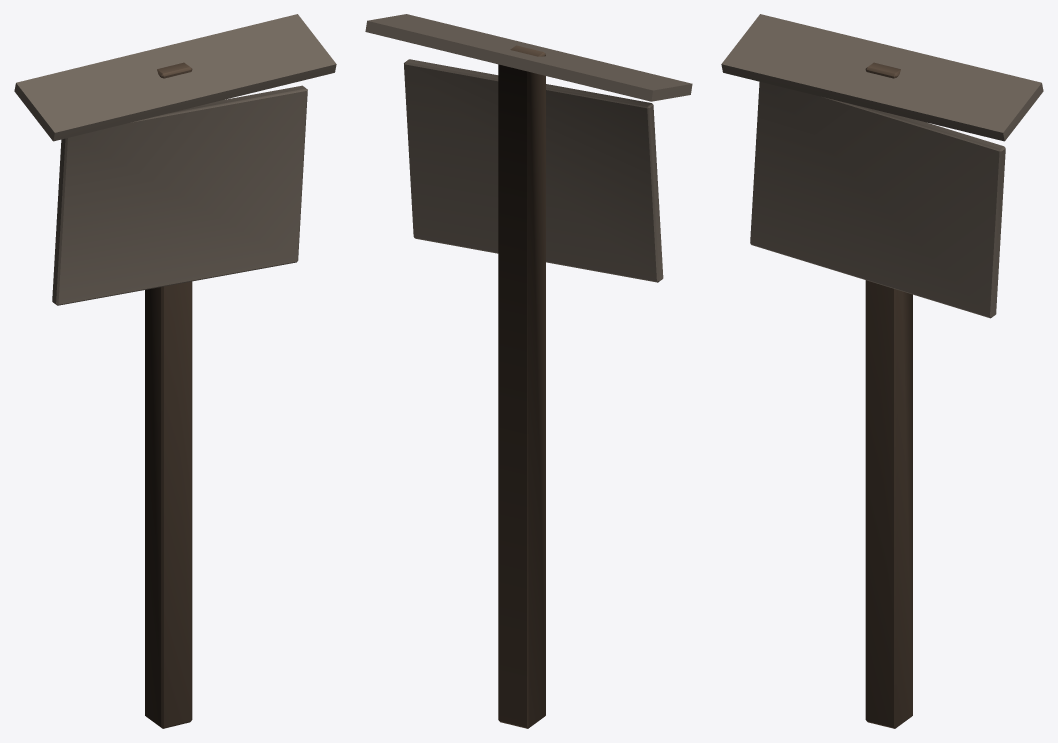
File: prop.sign.mo.glb
3 renders of one model, left to right at view 1: azimuth 30°, elevation 25°; view 2: azimuth 150°, elevation 25°; view 3: azimuth 330°, elevation 25°, orthographic.
Visible parts, largest first — view 1: LOD0; view 2: LOD0; view 3: LOD0.
Boxes of the visible parts, bbox=[...] form: LOD0: bbox=[14, 14, 336, 728]; LOD0: bbox=[365, 14, 692, 728]; LOD0: bbox=[721, 14, 1043, 728].
Size of what is drawn, in the model's own units: 0.72 by 1.62 by 0.1793.
